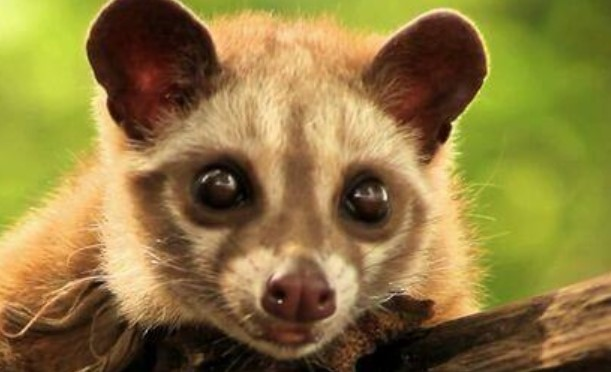Civet: (49, 1, 494, 363)
